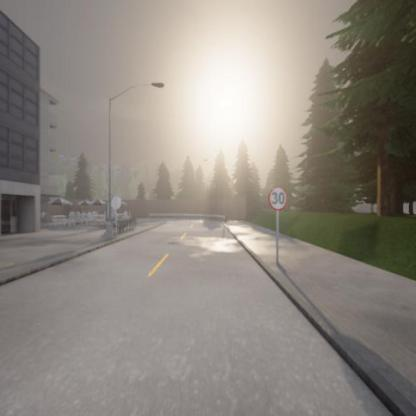traffic_sign_30: (268, 186, 288, 210)
